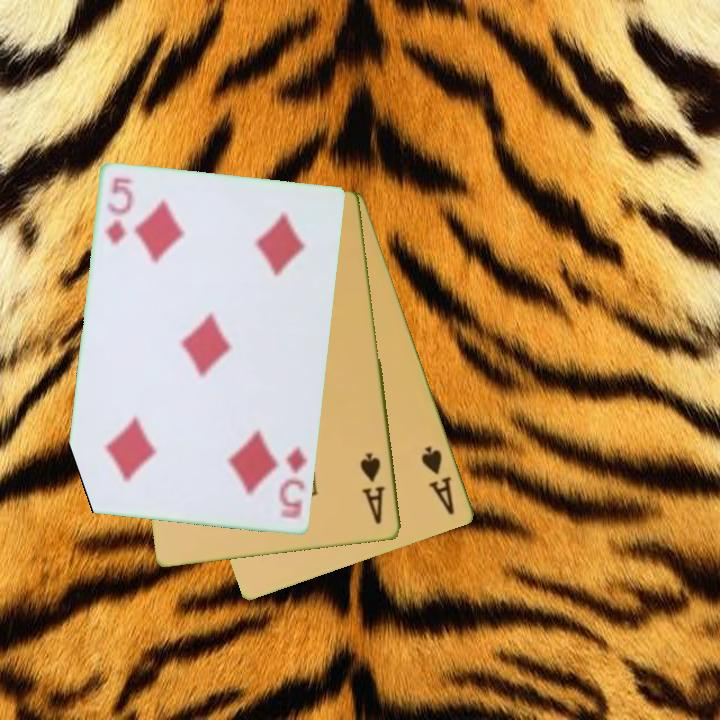5d: (276, 443, 310, 523), (101, 174, 136, 248)
As: (418, 443, 458, 518), (357, 449, 388, 528)
